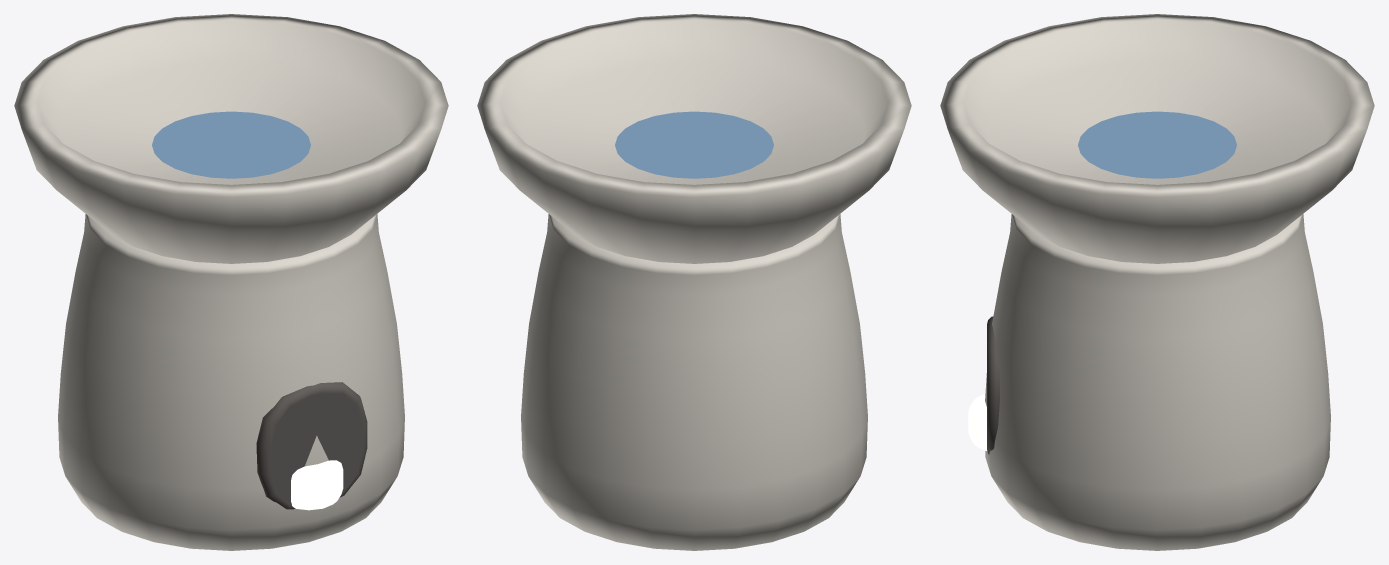
Rendered from aroma_burner.glb.
3 renders of one model, left to right at view 1: azimuth 30°, elevation 25°; view 2: azimuth 150°, elevation 25°; view 3: azimuth 270°, elevation 25°, orthographic.
Parts seen in each view (by area): view 1: aroma_burner_mesh; view 2: aroma_burner_mesh; view 3: aroma_burner_mesh.
Boxes of the visible parts, <box> form: aroma_burner_mesh: <box>14,14,448,550</box>; aroma_burner_mesh: <box>477,14,911,550</box>; aroma_burner_mesh: <box>940,14,1374,550</box>.
Size of the model in its own units: 0.28 by 0.2779 by 0.28.
